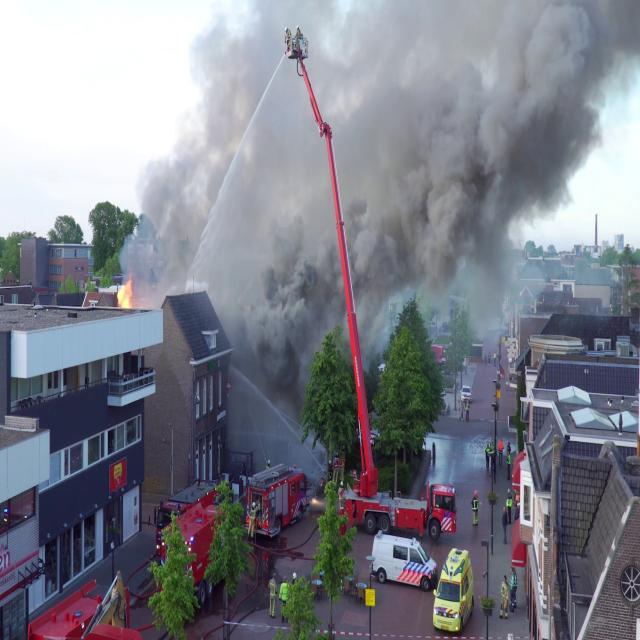Fire: (115, 276, 136, 312)
Smoke: (132, 0, 640, 311)
